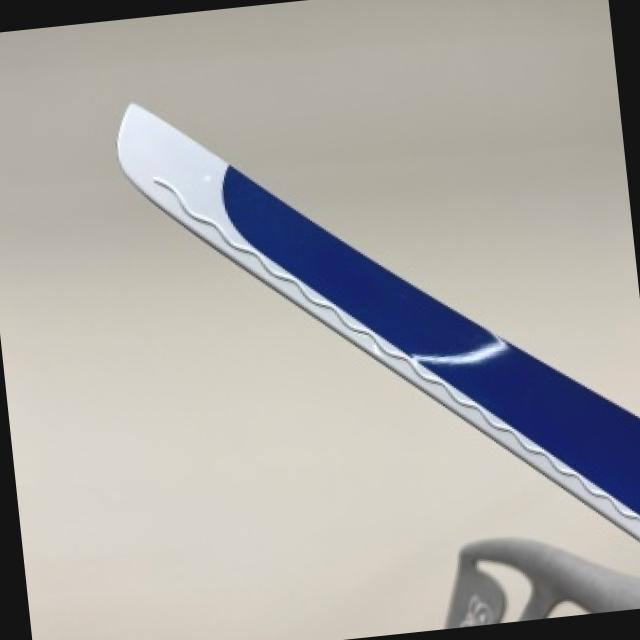healthy: (450, 537, 640, 622)
